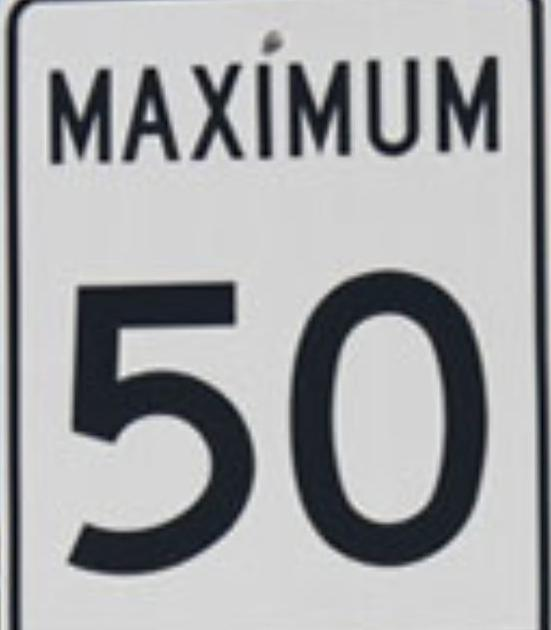Speed Limit -50-: (0, 1, 550, 629)
